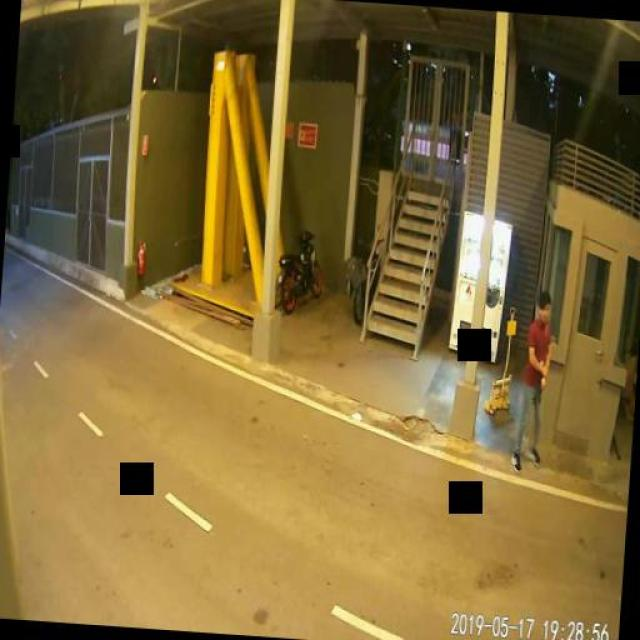gun: (535, 377, 545, 402)
